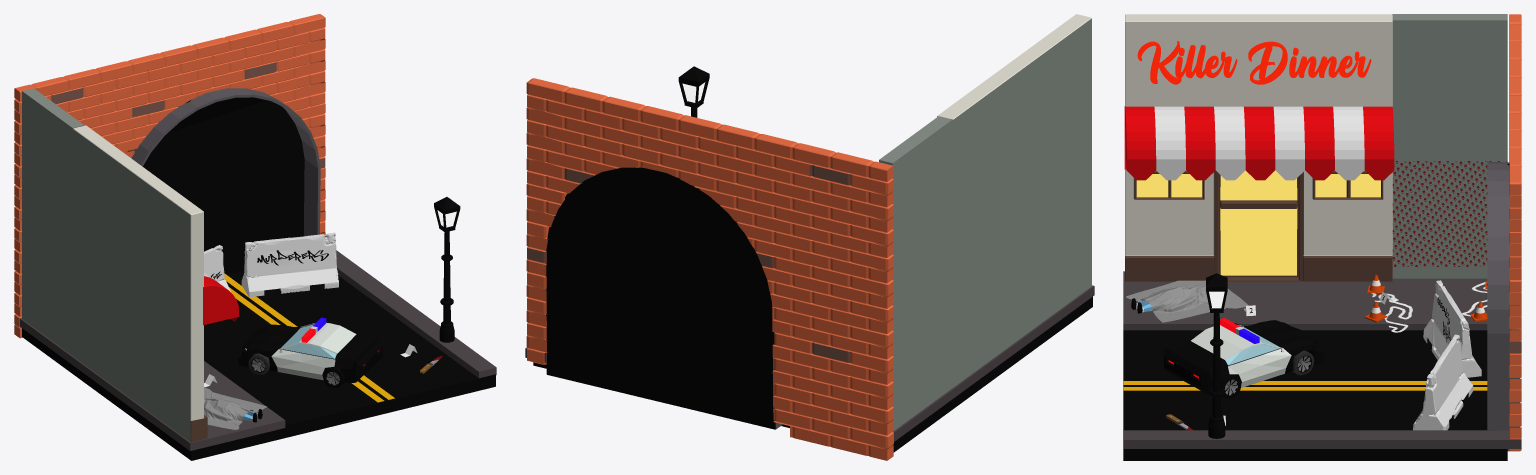
The model's file is baking-777.glb.
The picture shows the model from 3 angles, left to right: view 1: azimuth 30°, elevation 25°; view 2: azimuth 150°, elevation 25°; view 3: azimuth 270°, elevation 25°; orthographic projection. The views are drawn at different scales.
Parts seen in each view (by area): view 1: diner building, wall right brick, tunnel, Floor, wall left, car, barricade right, curb big, curb small, lantern, blanket, barricade left (+2 smaller); view 2: wall right brick, tunnel, diner building, wall left, curb big, Floor, lantern; view 3: diner building, Floor, wall left, curb big, diner building light, car, curb small, tunnel, wall right brick, diner text REDUX, blood, barricade right (+6 smaller).
Part boxes in pixels (x1,y1,x2,y2): diner building: (73,125,239,442); wall right brick: (14,14,325,338); tunnel: (131,88,320,274); Floor: (22,270,495,460); wall left: (22,88,84,355); car: (238,322,382,388); barricade right: (241,232,338,296); curb big: (19,318,285,450); curb small: (336,250,496,378); lantern: (434,197,460,342); blanket: (204,387,266,429); barricade left: (204,245,231,292); wall right brick: (526,78,893,460); tunnel: (545,167,782,429); diner building: (937,14,1091,387); wall left: (879,116,952,431); curb big: (893,285,1094,441); Floor: (533,296,1092,452); lantern: (678,66,709,117); diner building: (1124,14,1394,281); Floor: (1123,330,1507,460); wall left: (1392,14,1507,278); curb big: (1123,271,1487,330); diner building light: (1136,170,1380,275); car: (1164,320,1324,398); curb small: (1124,430,1521,448); tunnel: (1487,161,1520,451); wall right brick: (1509,14,1521,450); diner text REDUX: (1137,41,1371,84); blood: (1392,161,1507,266); barricade right: (1413,334,1473,430).
Bounding box in the file's own units: 10.5 × 8.05 × 10.37.
Materials: 45 (2 with a texture image).
